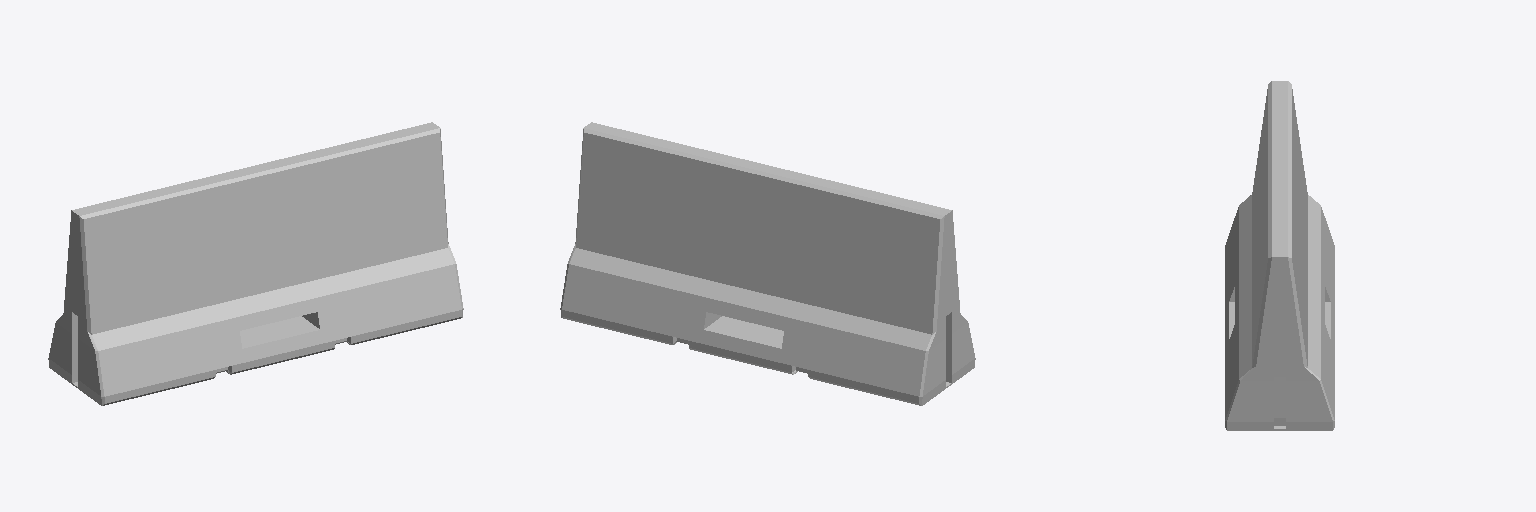
The model's file is road_barier_2a.obj.
3 views of the same model, side by side, from view 1: azimuth 30°, elevation 25°; view 2: azimuth 150°, elevation 25°; view 3: azimuth 270°, elevation 25° (orthographic).
Visible parts, largest first — view 1: road_barier_2a_roads_material; view 2: road_barier_2a_roads_material; view 3: road_barier_2a_roads_material.
Part boxes in pixels (x1,y1,x2,y2): road_barier_2a_roads_material: (48, 122, 463, 405); road_barier_2a_roads_material: (560, 122, 975, 405); road_barier_2a_roads_material: (1225, 81, 1334, 430).
Size of the model in its own units: 3.27 by 1.5 by 0.8571.